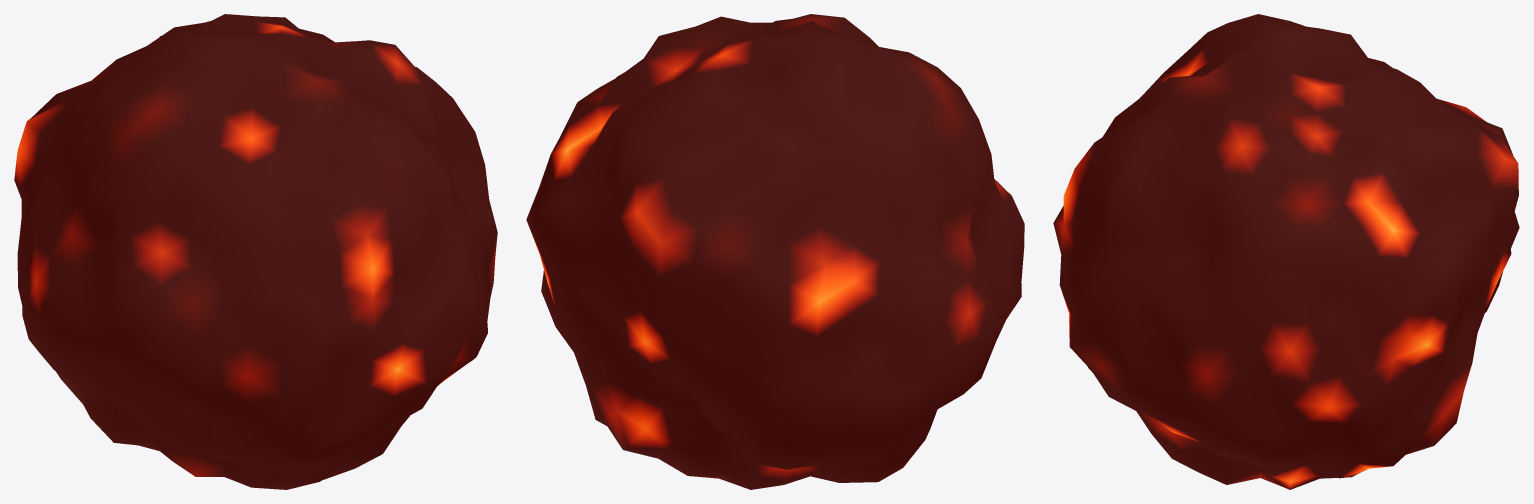
The model's file is lava_bomb.glb.
3 renders of one model, left to right at view 1: azimuth 30°, elevation 25°; view 2: azimuth 150°, elevation 25°; view 3: azimuth 270°, elevation 25°, orthographic. The views are drawn at different scales.
Bounding box in the file's own units: 2.24 × 2.16 × 2.24.
